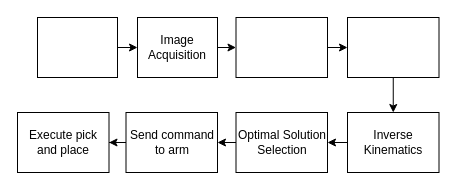
Some shapes in this 457 by 190 pixel diagram are drawn without their labels. Each missing label, with the centre of its shape:
Camera: (x=77, y=47)
Centroid and Depth Extraction: (x=392, y=47)
Color Segmentation: (x=281, y=47)
